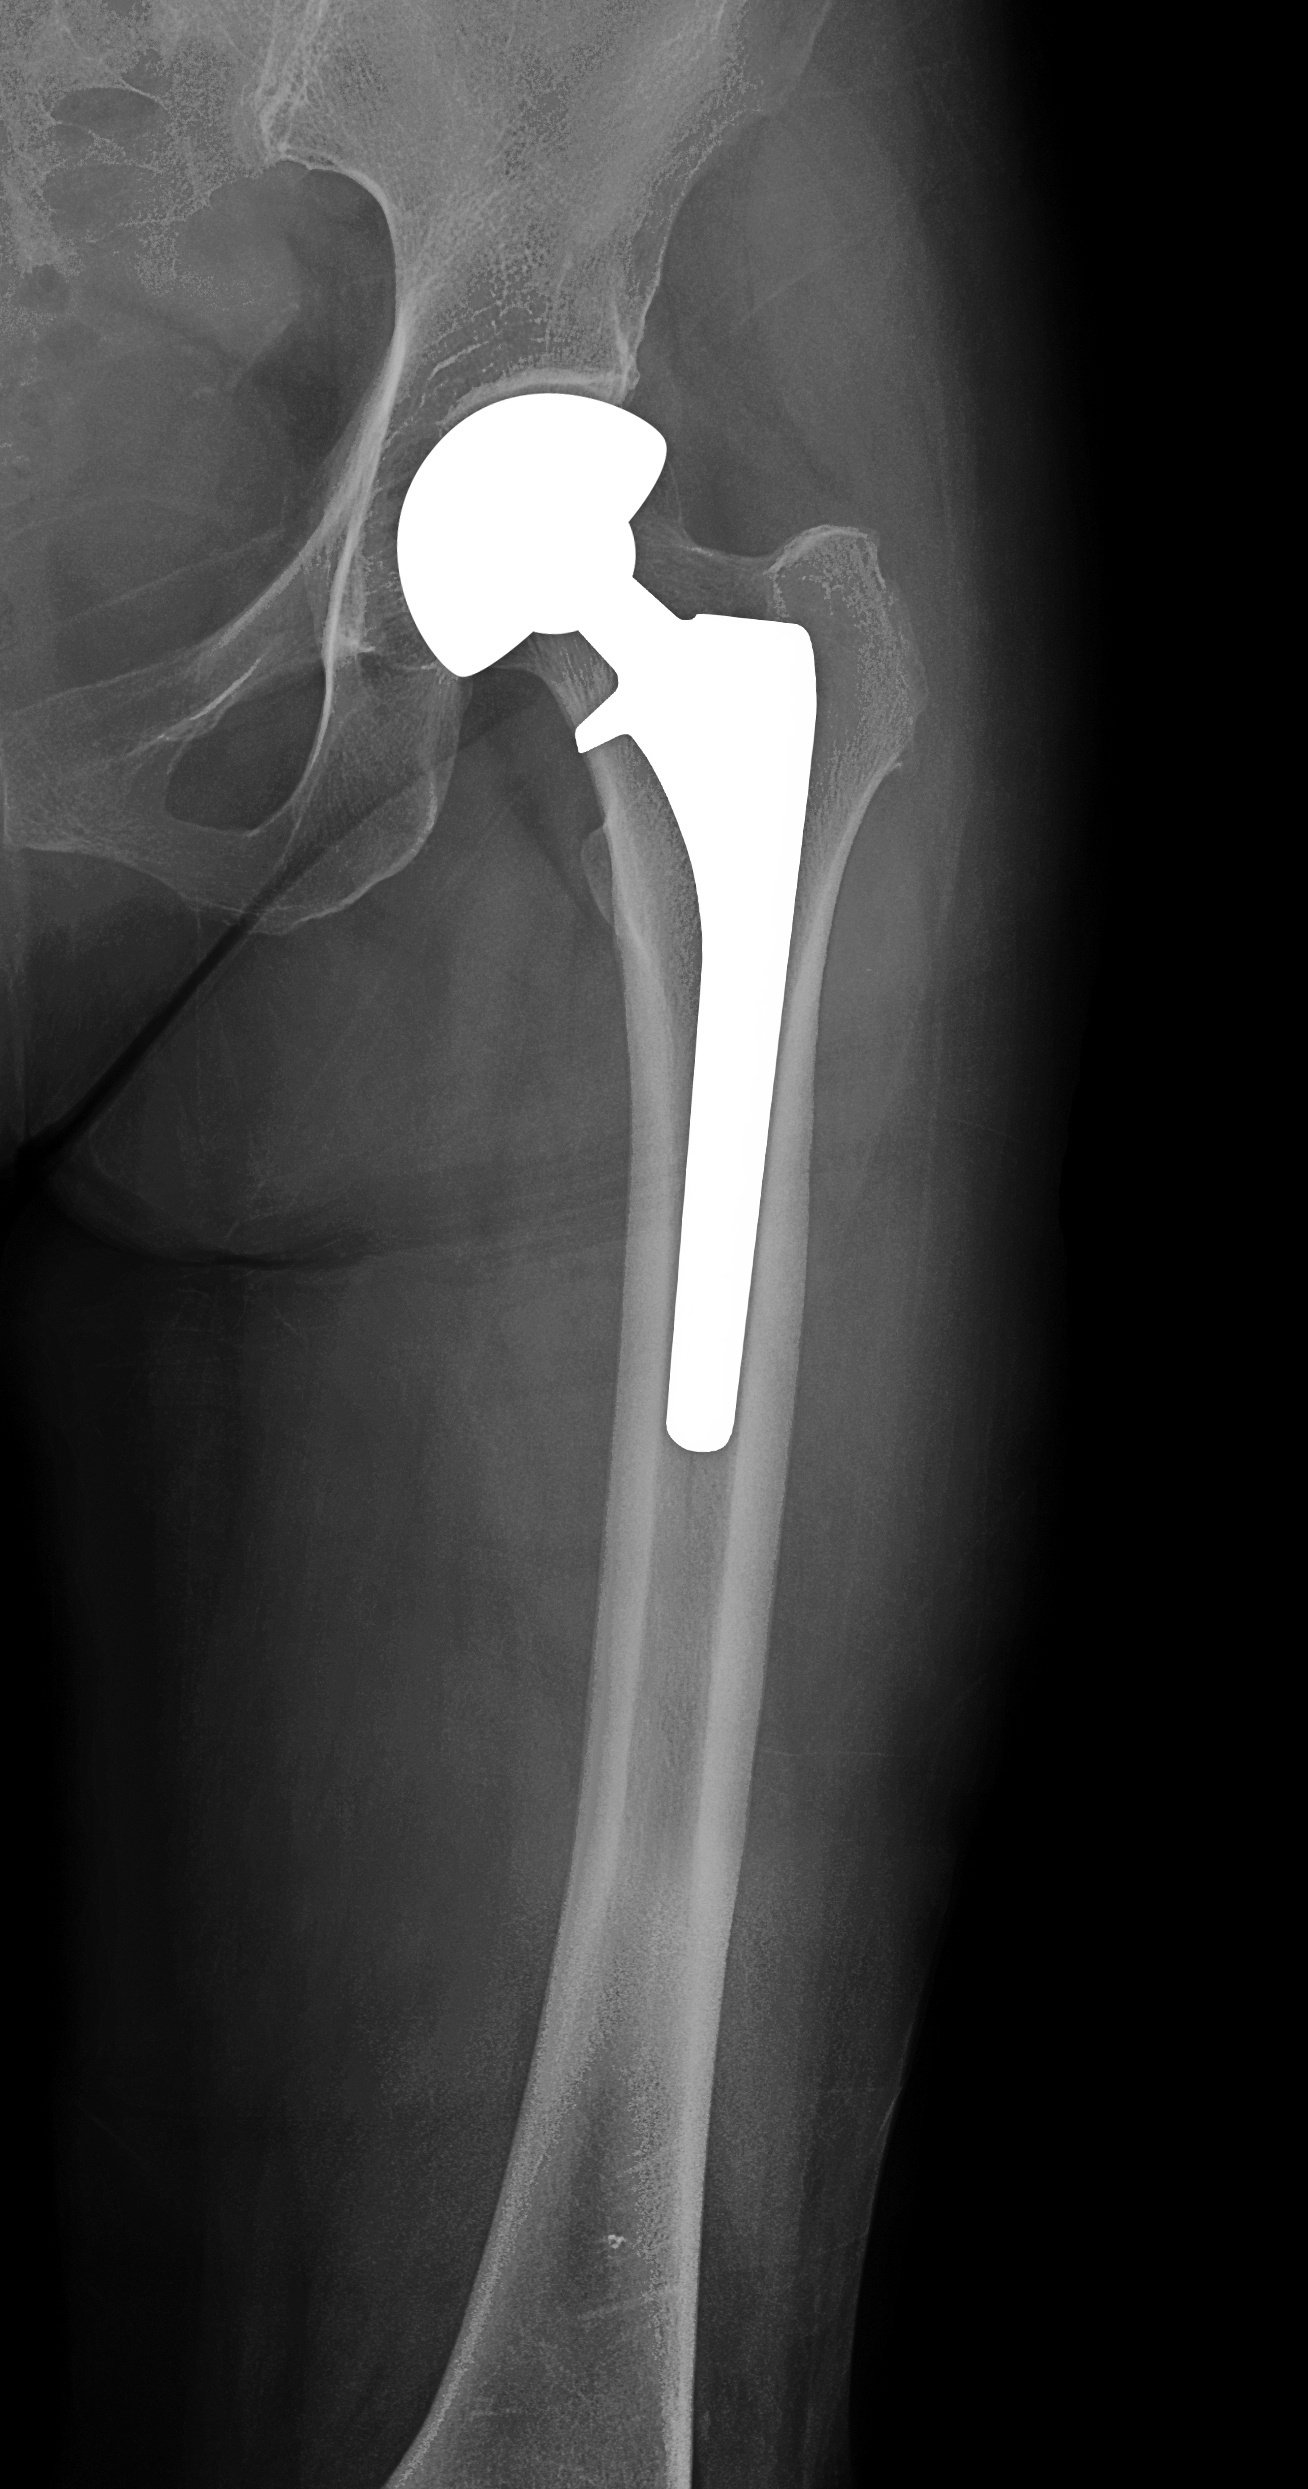Hip - APR - Zimmer: (393, 347, 856, 1514)
